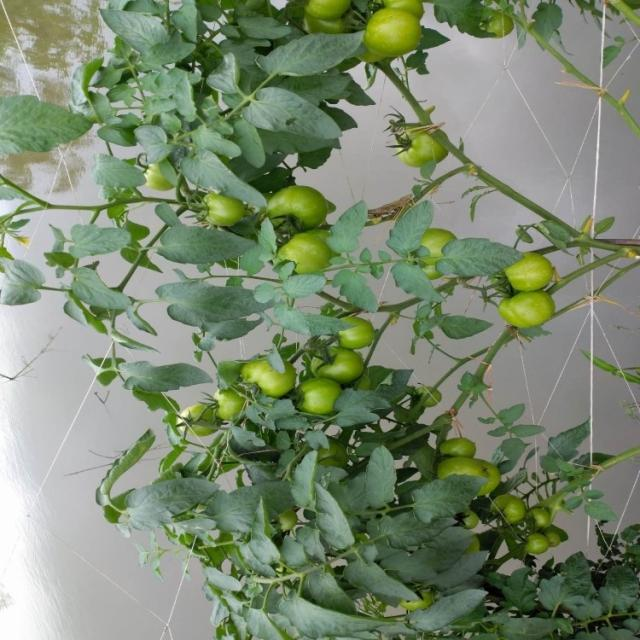tomato: (380, 109, 472, 186), (272, 225, 348, 292), (254, 176, 342, 233), (438, 442, 518, 502), (174, 179, 249, 242), (486, 275, 558, 340), (397, 222, 473, 283), (488, 232, 556, 295), (353, 12, 426, 66), (242, 357, 311, 407), (525, 487, 584, 545), (332, 302, 384, 356), (310, 342, 367, 391), (177, 389, 229, 438), (484, 478, 524, 527), (302, 375, 345, 419), (214, 381, 252, 427), (297, 1, 348, 32), (136, 152, 173, 194), (372, 1, 425, 27), (438, 429, 474, 463), (517, 520, 546, 562), (539, 516, 565, 547)
